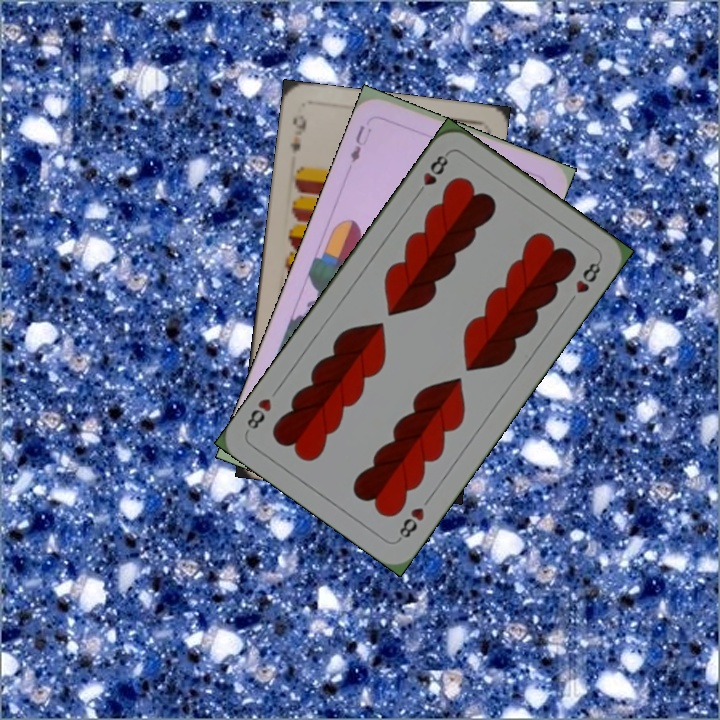E9: (286, 111, 309, 156)
EU: (346, 121, 374, 166)
H8: (412, 148, 452, 200), (394, 503, 427, 544)
